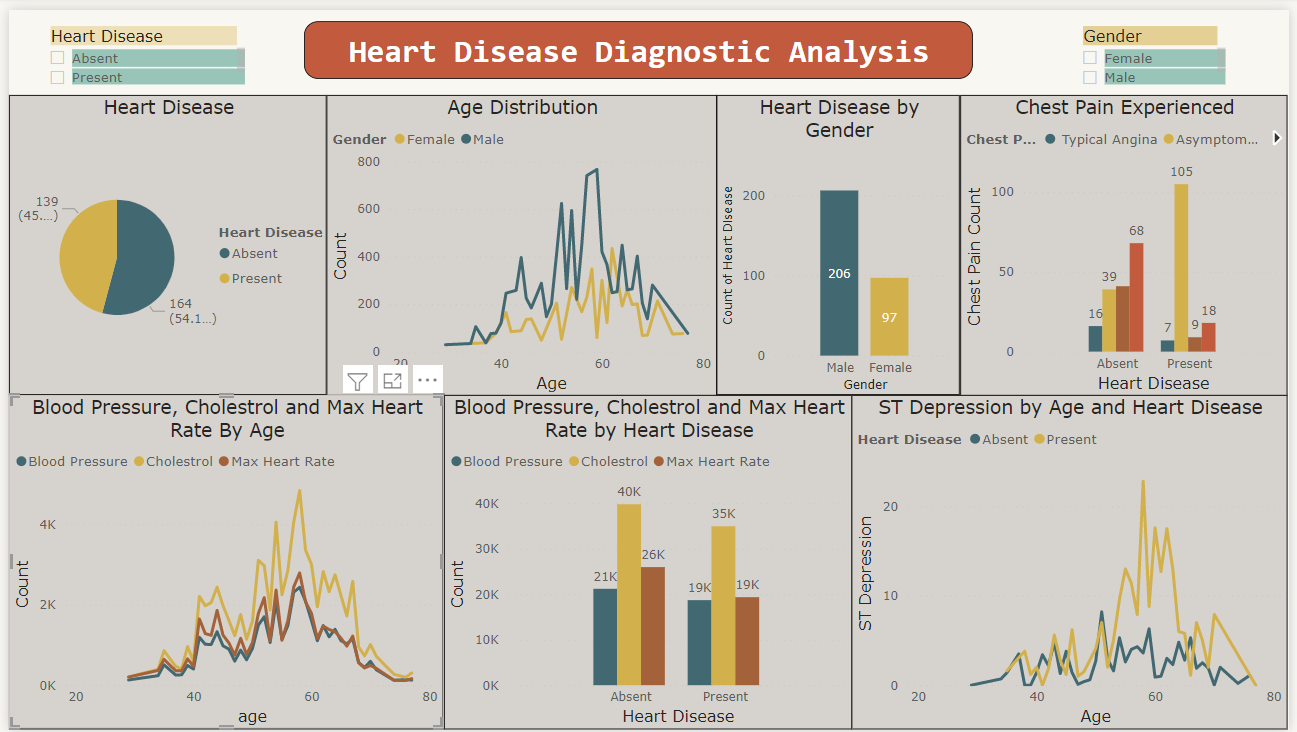

Layout of this report page (visuals, bound fields, positions):
{"tool":"powerbi","page":{"name":"Dashboard","canvas":[1280,720],"ordinal":0},"visuals":[{"type":"columnChart","title":"Heart Disease by Gender","fields":{"Category":["heart_disease_dataset.Gender"],"Y":["CountNonNull(heart_disease_dataset.Heart Disease)"],"Series":["heart_disease_dataset.Gender"]},"box":[708.1,84.8,243.6,299.7],"z":0},{"type":"pieChart","title":"Heart Disease","fields":{"Y":["CountNonNull(heart_disease_dataset.Heart Disease)"],"Category":["heart_disease_dataset.Heart Disease"]},"box":[0,84.8,317.6,299.7],"z":1000},{"type":"lineChart","title":"Age Distribution","fields":{"Category":["heart_disease_dataset.age"],"Y":["Sum(heart_disease_dataset.age)"],"Series":["heart_disease_dataset.Gender"]},"box":[317.6,84.8,390.4,300.9],"z":2000},{"type":"clusteredColumnChart","title":"Chest Pain Experienced","fields":{"Category":["heart_disease_dataset.Heart Disease"],"Y":["CountNonNull(heart_disease_dataset.chest pain)"],"Series":["heart_disease_dataset.chest pain"]},"box":[951.6,84.8,327.2,300.9],"z":3000},{"type":"lineChart","title":"Blood Pressure, Cholestrol and Max Heart Rate By Age","fields":{"Y":["Sum(heart_disease_dataset.Blood Pressure)","Sum(heart_disease_dataset.chol)","Sum(heart_disease_dataset.thalach)"],"Category":["heart_disease_dataset.age"]},"box":[0,384.5,434.6,334.3],"z":4000},{"type":"clusteredColumnChart","title":"Blood Pressure, Cholestrol and Max Heart Rate by Heart Disease","fields":{"Category":["heart_disease_dataset.Heart Disease"],"Y":["Sum(heart_disease_dataset.trestbps)","Sum(heart_disease_dataset.chol)","Sum(heart_disease_dataset.thalach)"]},"box":[434.6,384.5,408.4,334.3],"z":5000},{"type":"lineChart","title":"ST Depression by Age and Heart Disease","fields":{"Category":["heart_disease_dataset.age"],"Series":["heart_disease_dataset.Heart Disease"],"Y":["Sum(heart_disease_dataset.oldpeak)"]},"box":[843,384.5,435.8,334.3],"z":6000},{"type":"slicer","fields":{"Values":["heart_disease_dataset.Gender"]},"box":[1061.5,10.7,160,68.1],"z":7000},{"type":"slicer","fields":{"Values":["heart_disease_dataset.Heart Disease"]},"box":[28.7,10.7,212.5,68.1],"z":8000},{"type":"textbox","box":[294.9,10.7,668.7,57.3],"z":9000}]}

Visuals, with their boxes in screenshot pixels (x1, y1, x2, y2), scaled from the page's 1280x720 canvas onto the 1297x732 screenshot:
"Heart Disease by Gender" columnChart: 718, 86, 964, 391
"Heart Disease" pieChart: 0, 86, 322, 391
"Age Distribution" lineChart: 322, 86, 717, 392
"Chest Pain Experienced" clusteredColumnChart: 964, 86, 1296, 392
"Blood Pressure, Cholestrol and Max Heart Rate By Age" lineChart: 0, 391, 440, 731
"Blood Pressure, Cholestrol and Max Heart Rate by Heart Disease" clusteredColumnChart: 440, 391, 854, 731
"ST Depression by Age and Heart Disease" lineChart: 854, 391, 1296, 731
slicer - heart_disease_dataset.Gender: 1076, 11, 1238, 80
slicer - heart_disease_dataset.Heart Disease: 29, 11, 244, 80
textbox: 299, 11, 976, 69
